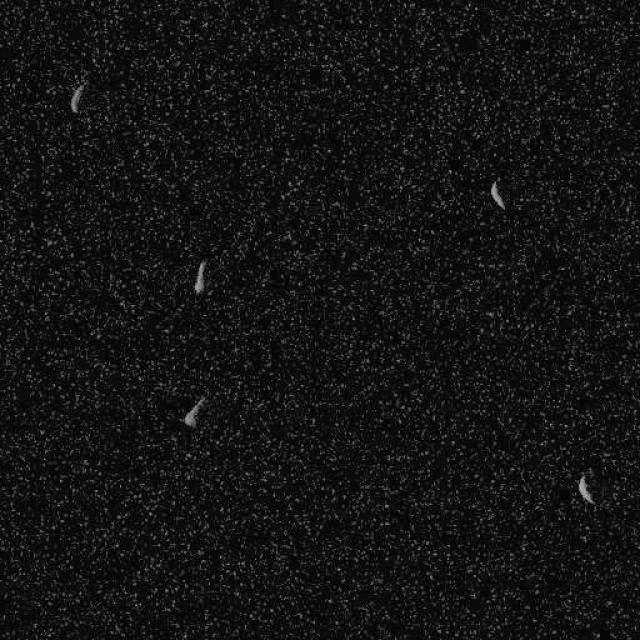D2: (182, 395, 206, 429), (576, 473, 595, 505), (69, 81, 85, 114), (192, 258, 206, 294), (489, 179, 505, 210)
